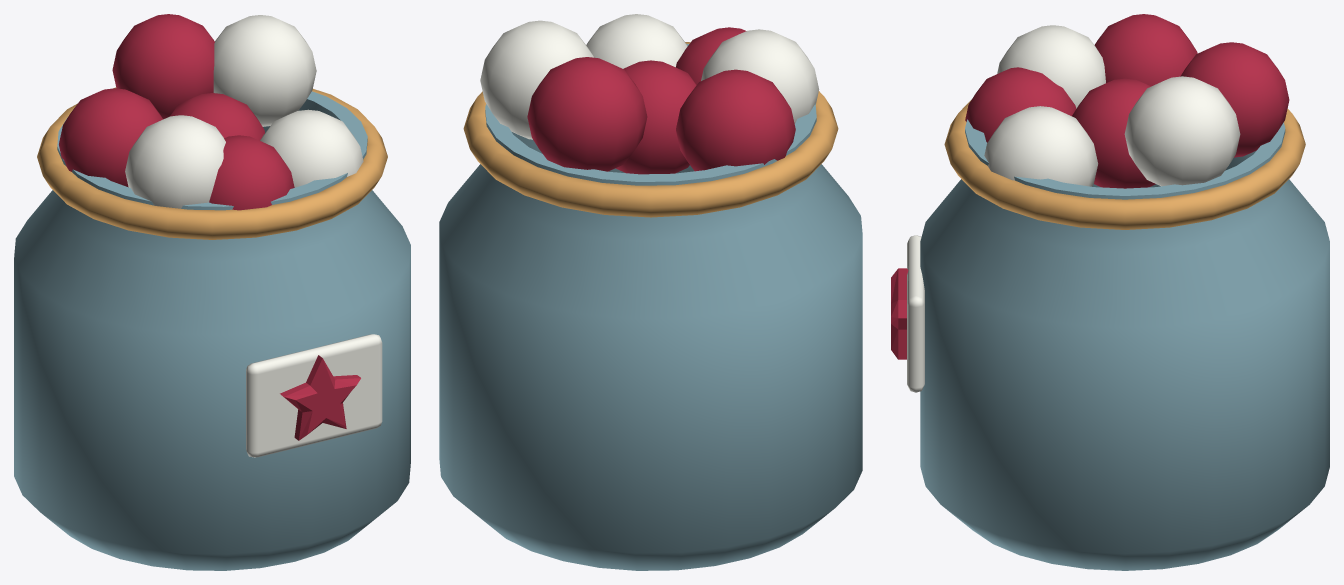
The model's file is storybook-christmas-market-peppermint-candy-jar-7996c0a5__19727.glb.
The picture shows the model from 3 angles, left to right: view 1: azimuth 30°, elevation 25°; view 2: azimuth 150°, elevation 25°; view 3: azimuth 270°, elevation 25°; orthographic projection. The views are drawn at different scales.
Parts seen in each view (by area): view 1: peppermint-candy-jar; view 2: peppermint-candy-jar; view 3: peppermint-candy-jar.
Part boxes in pixels (bbox=[...]): peppermint-candy-jar: bbox=[14, 14, 410, 570]; peppermint-candy-jar: bbox=[439, 14, 862, 570]; peppermint-candy-jar: bbox=[891, 14, 1329, 570].
Bounding box in the file's own units: 0.46 × 0.565 × 0.493.
